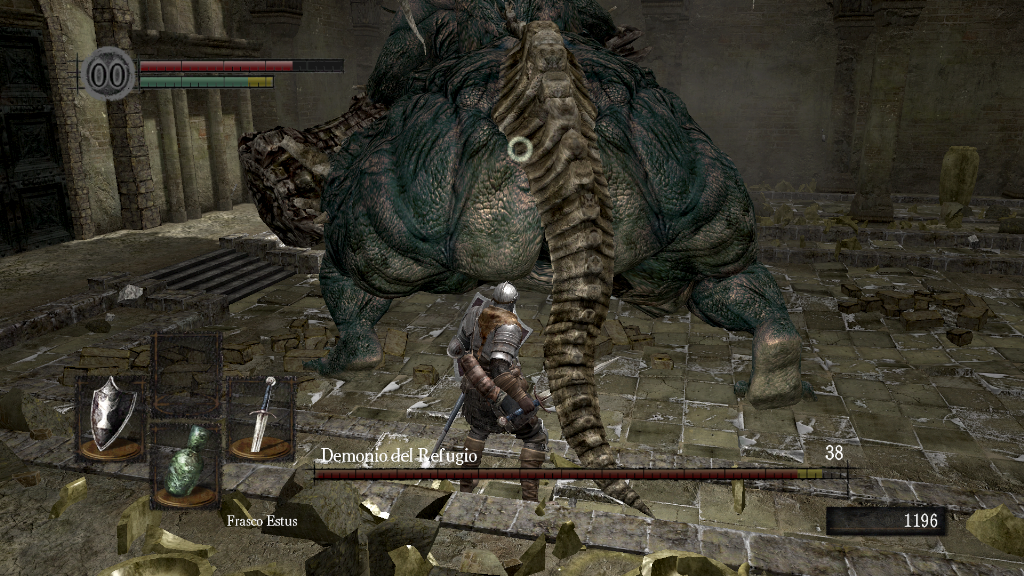asylumDemon: (239, 4, 816, 517)
bossHP: (314, 469, 847, 479)
health: (138, 58, 343, 71)
humanity: (80, 45, 136, 102)
player: (444, 276, 553, 502)
souls: (825, 506, 945, 536)
stamina: (138, 74, 274, 88)
